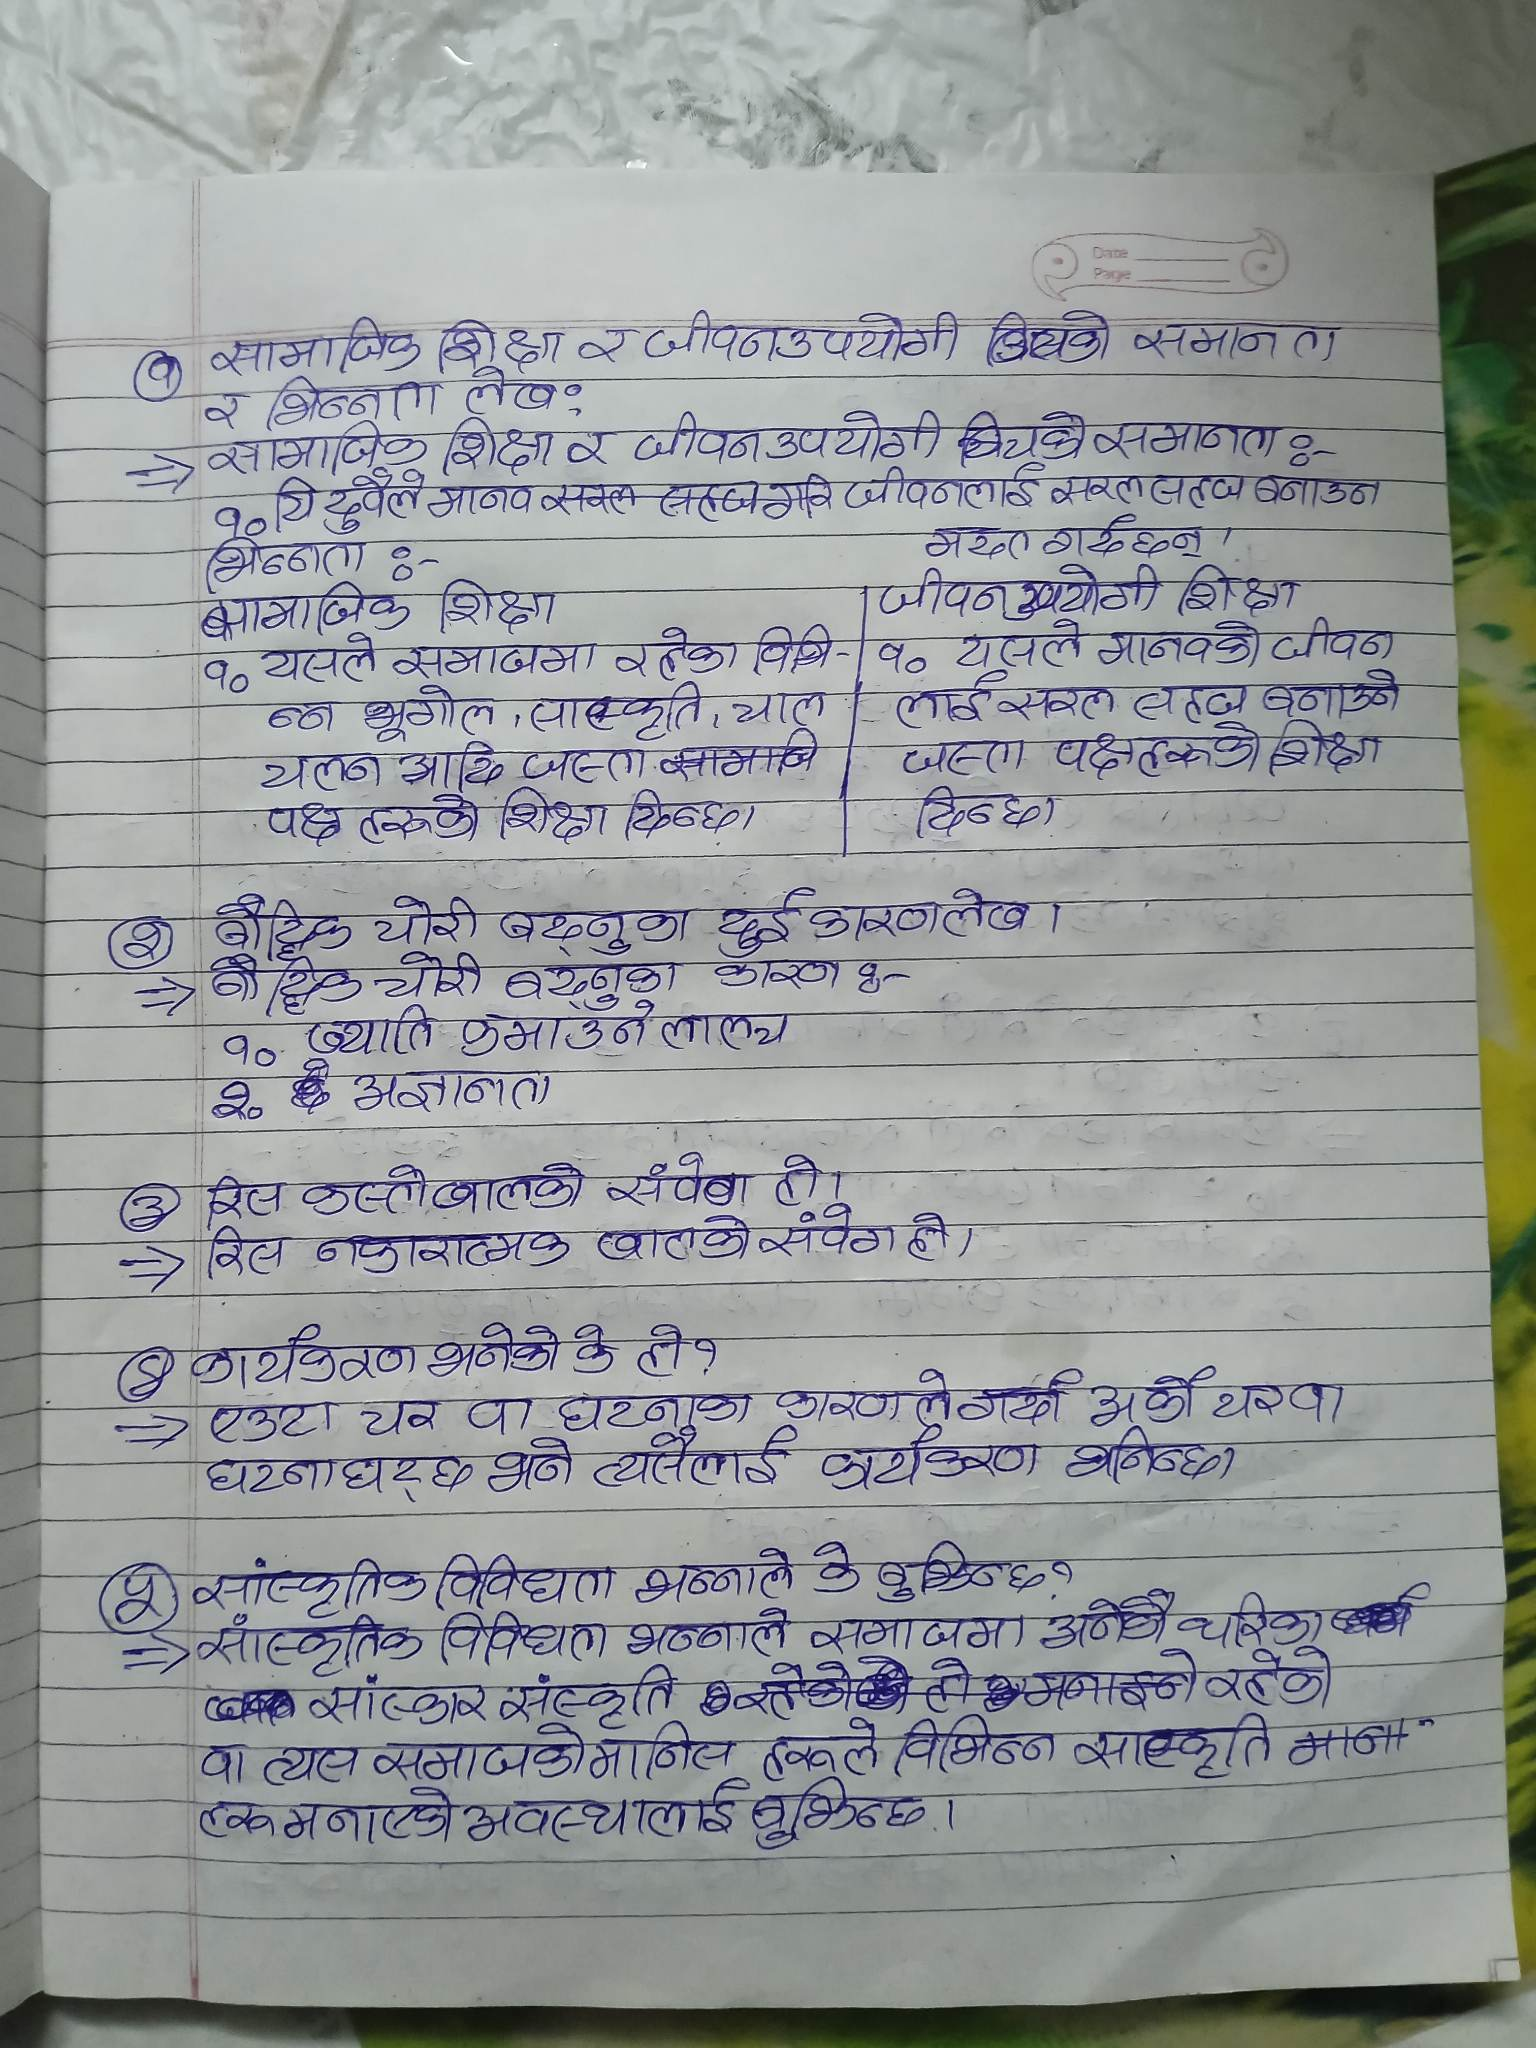text: (645, 302, 962, 369), (465, 1780, 744, 1848), (628, 406, 945, 463), (300, 1159, 587, 1218), (1071, 1709, 1279, 1782), (870, 566, 1162, 618), (813, 1429, 1046, 1493), (194, 1326, 423, 1385), (202, 1451, 466, 1503), (192, 1614, 423, 1672), (194, 1558, 424, 1614), (310, 1227, 578, 1276), (1133, 310, 1347, 369), (594, 1432, 800, 1493), (752, 1780, 934, 1850), (353, 1064, 565, 1121), (373, 1727, 587, 1782), (210, 318, 423, 373), (1066, 1429, 1246, 1493), (1049, 726, 1258, 780), (873, 1535, 1046, 1601), (497, 900, 695, 955), (771, 1364, 954, 1424), (436, 1550, 616, 1608), (436, 1609, 616, 1667), (528, 684, 708, 742), (203, 893, 366, 956), (842, 464, 1046, 514), (282, 1792, 452, 1851), (807, 1609, 1029, 1655), (1092, 410, 1279, 463), (629, 1543, 795, 1603), (895, 1717, 1060, 1777), (502, 1667, 676, 1722), (553, 1387, 758, 1432), (203, 431, 431, 471), (457, 1009, 658, 1055), (190, 593, 421, 632), (629, 1608, 791, 1663), (608, 1151, 757, 1209), (311, 1679, 494, 1725), (976, 308, 1112, 371), (595, 1213, 755, 1266), (265, 374, 437, 423), (203, 535, 369, 585), (1179, 1587, 1326, 1643), (907, 780, 1046, 840), (1212, 1369, 1354, 1427), (1096, 619, 1263, 668), (763, 1206, 899, 1266), (760, 1721, 887, 1784), (497, 961, 694, 1001), (1205, 1648, 1338, 1708), (200, 963, 363, 1011), (397, 639, 599, 677), (591, 1725, 736, 1779), (1086, 1364, 1205, 1429), (431, 1322, 563, 1380), (1046, 514, 1213, 560), (1049, 471, 1242, 510), (437, 572, 565, 631), (952, 406, 1086, 461), (360, 797, 487, 853), (365, 685, 497, 739), (620, 790, 749, 843), (1175, 564, 1312, 614), (434, 314, 561, 368), (1258, 672, 1409, 718), (665, 1009, 794, 1061), (1036, 1605, 1168, 1655), (440, 416, 553, 474), (202, 1395, 336, 1443), (963, 1366, 1078, 1422), (942, 879, 1042, 943), (955, 619, 1084, 669), (499, 789, 607, 848), (887, 676, 1004, 731), (307, 1011, 442, 1058), (1250, 468, 1386, 514), (810, 898, 941, 947), (486, 1435, 581, 1501), (374, 890, 489, 945), (1270, 719, 1383, 774), (618, 626, 737, 677), (708, 887, 800, 953), (1271, 616, 1396, 664), (260, 637, 387, 684), (895, 734, 1028, 777), (326, 474, 423, 532), (1007, 672, 1117, 722), (516, 743, 647, 785), (257, 750, 381, 793), (97, 900, 174, 969), (749, 618, 836, 677), (379, 950, 482, 1000), (1128, 677, 1250, 719), (707, 955, 842, 992), (203, 1171, 289, 1229), (658, 476, 762, 522), (397, 743, 503, 787), (429, 481, 536, 524), (263, 1742, 360, 1788), (203, 1227, 287, 1280), (110, 1171, 182, 1232), (463, 369, 561, 414), (197, 1795, 278, 1850), (537, 481, 641, 522), (920, 526, 1036, 563), (634, 1314, 695, 1380), (457, 1392, 544, 1437), (127, 335, 184, 405), (729, 689, 829, 727), (355, 1392, 440, 1437), (766, 472, 836, 527), (807, 1535, 863, 1600), (113, 1340, 173, 1400), (266, 801, 345, 845), (766, 1147, 821, 1206), (213, 1027, 287, 1071), (908, 1203, 955, 1271), (266, 697, 344, 737), (871, 631, 937, 677), (568, 1319, 620, 1377), (208, 490, 271, 537), (115, 1569, 168, 1624), (192, 1734, 248, 1785), (194, 651, 252, 700), (574, 318, 628, 369), (210, 1074, 260, 1126), (565, 427, 616, 476), (276, 479, 315, 535), (207, 382, 250, 431)
